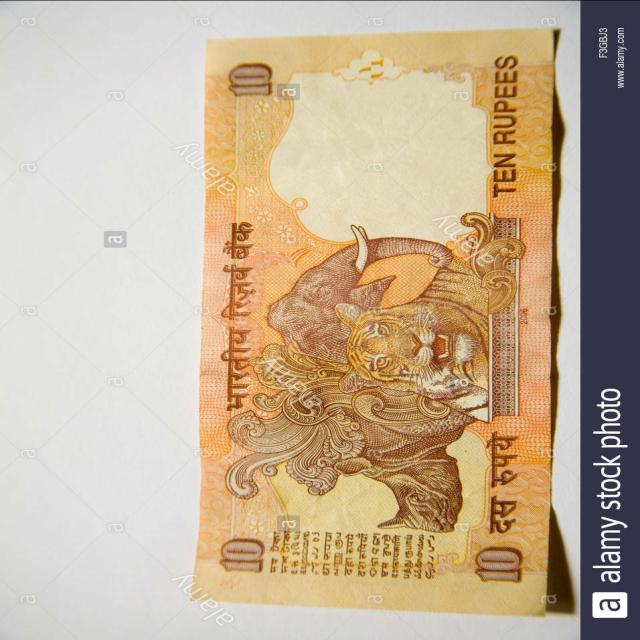10IndianRupees: (198, 31, 558, 606)
